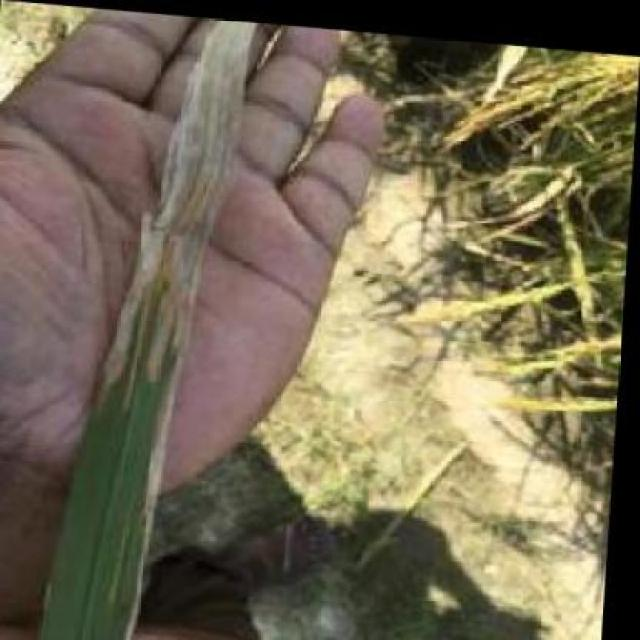Brown_Spot: (138, 19, 253, 502)
